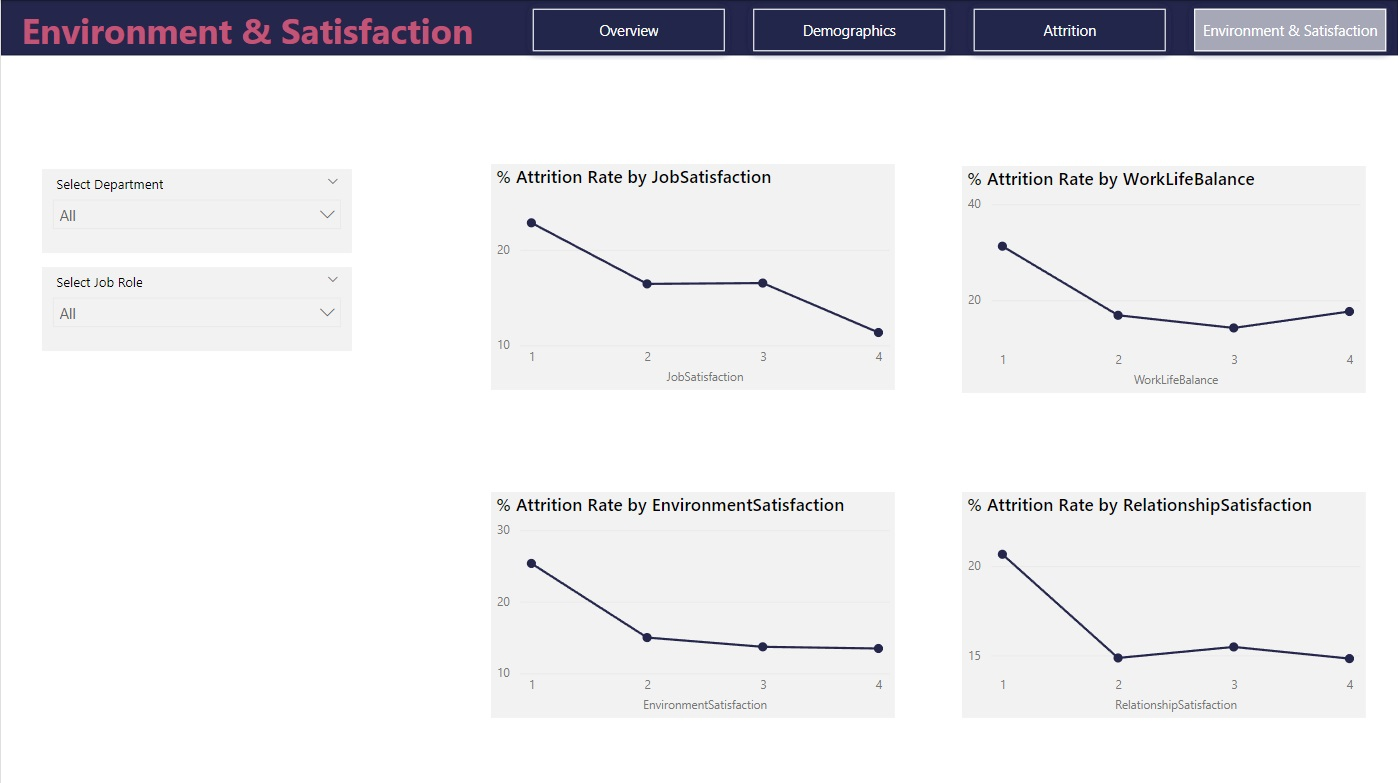

The page's visual inventory and layout, read from the dashboard file:
{"tool":"powerbi","page":{"name":"Environment & Satisfaction","canvas":[1280,720],"ordinal":3},"visuals":[{"type":"lineChart","fields":{"Category":["Attrition_Performance.EnvironmentSatisfaction"],"Y":["_Measures.% Attrition Rate"]},"box":[448.7,450.7,370,207],"z":0},{"type":"lineChart","fields":{"Category":["Attrition_Performance.JobSatisfaction"],"Y":["_Measures.% Attrition Rate"]},"box":[448.7,150.6,370,207],"z":1000},{"type":"lineChart","fields":{"Category":["Attrition_Performance.WorkLifeBalance"],"Y":["_Measures.% Attrition Rate"]},"box":[880.3,151.9,370,207.9],"z":2000},{"type":"lineChart","fields":{"Category":["Attrition_Performance.RelationshipSatisfaction"],"Y":["_Measures.% Attrition Rate"]},"box":[880.3,450.4,370,207],"z":3000},{"type":"shape","box":[0,0,1280,50.6],"z":5000},{"type":"textbox","box":[14,0,484.8,58.2],"z":6000},{"type":"pageNavigator","box":[479.5,0,800.5,55],"z":7000},{"type":"slicer","title":"Select Job Role","fields":{"Values":["Attrition_Performance.JobRole"]},"box":[37.6,244.2,283.9,77.3],"z":8000},{"type":"slicer","title":"Select Job Role","fields":{"Values":["Attrition_Performance.Department"]},"box":[37.6,154.7,283.9,77.3],"z":9000}]}

Visuals, with their boxes in screenshot pixels (x1, y1, x2, y2), scaled from the page's 1280x720 canvas onto the 1398x783 screenshot:
lineChart - Attrition_Performance.EnvironmentSatisfaction x _Measures.% Attrition Rate: 490 490 894 715
lineChart - Attrition_Performance.JobSatisfaction x _Measures.% Attrition Rate: 490 164 894 389
lineChart - Attrition_Performance.WorkLifeBalance x _Measures.% Attrition Rate: 961 165 1366 391
lineChart - Attrition_Performance.RelationshipSatisfaction x _Measures.% Attrition Rate: 961 490 1366 715
shape: 0 0 1397 55
textbox: 15 0 545 63
pageNavigator: 524 0 1397 60
"Select Job Role" slicer: 41 266 351 350
"Select Job Role" slicer: 41 168 351 252
